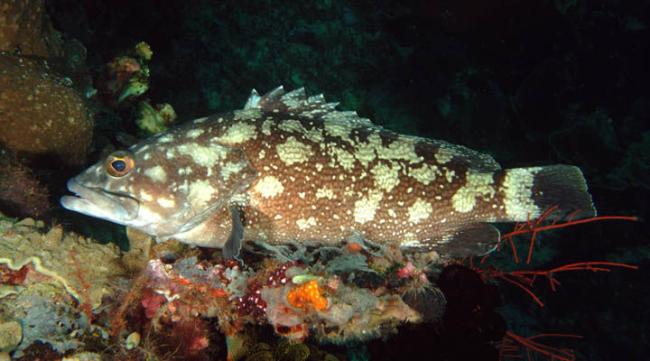fish: (60, 85, 598, 260)
